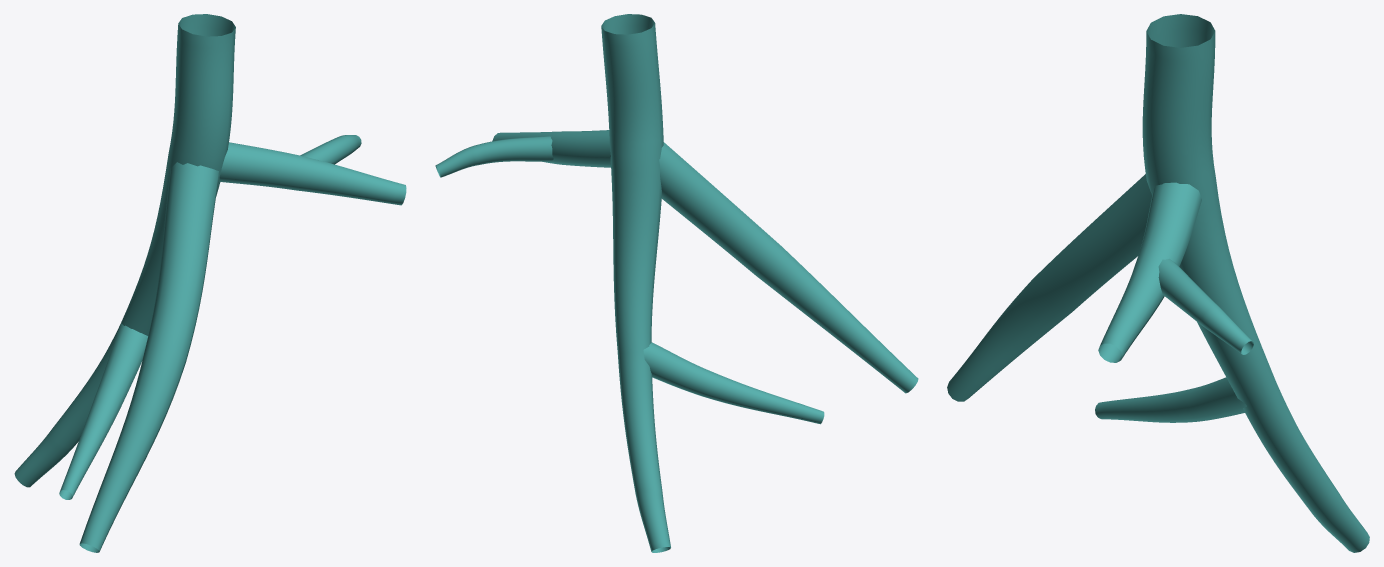
3 views of the same model, side by side, from view 1: azimuth 30°, elevation 25°; view 2: azimuth 150°, elevation 25°; view 3: azimuth 270°, elevation 25° (orthographic). The views are drawn at different scales.
Parts seen in each view (by area): view 1: 左肺前段支气管（第3段）; view 2: 左肺前段支气管（第3段）; view 3: 左肺前段支气管（第3段）.
Boxes of the visible parts, <box> form: 左肺前段支气管（第3段）: <box>14,14,406,552</box>; 左肺前段支气管（第3段）: <box>435,14,918,552</box>; 左肺前段支气管（第3段）: <box>947,14,1369,552</box>.
Size of the model in its own units: 0.0936 by 0.1102 by 0.0722.
